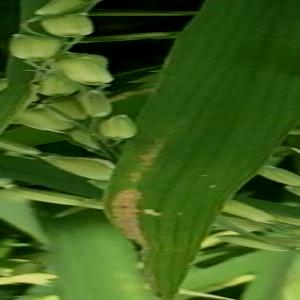2 BacterialBlight: (107, 140, 210, 296)
